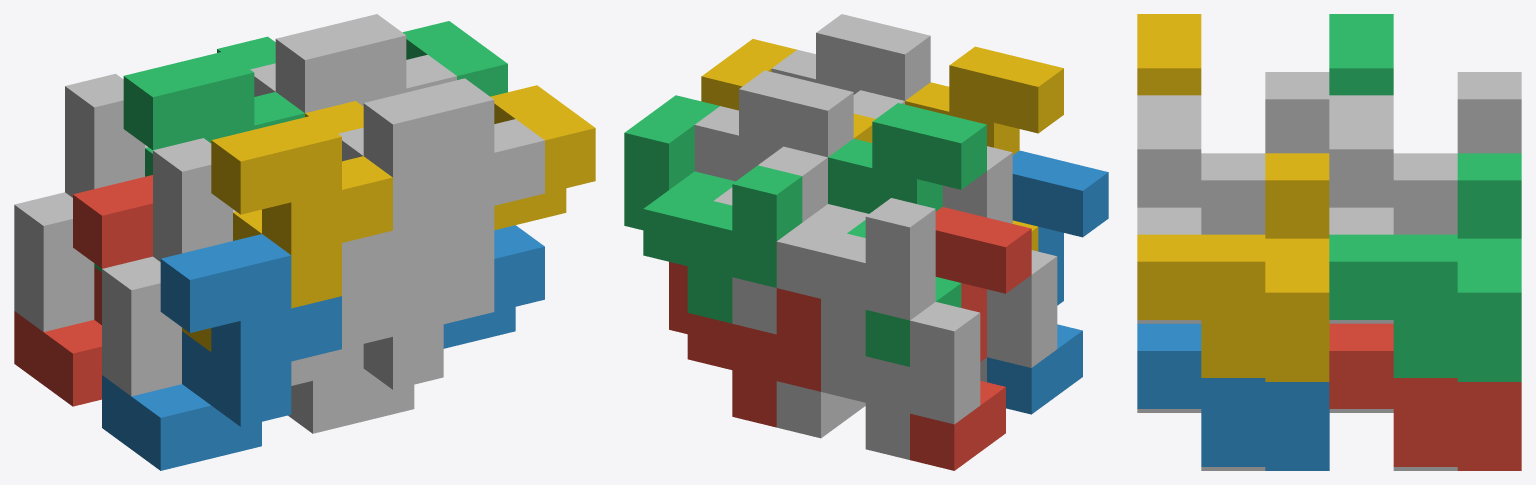
Rendered from tiling.obj.
3 views of the same model, side by side, from view 1: azimuth 30°, elevation 25°; view 2: azimuth 150°, elevation 25°; view 3: azimuth 270°, elevation 25° (orthographic). The views are drawn at different scales.
Visible parts, largest first — view 1: copy_1_domain_2, copy_1_domain_4, copy_1_domain_6, copy_1_domain_8, copy_2_domain_2, copy_1_domain_1, copy_1_domain_3, copy_1_domain_7, copy_2_domain_4, copy_2_domain_1, copy_2_domain_8, copy_2_domain_3 (+2 smaller); view 2: copy_2_domain_7, copy_2_domain_3, copy_1_domain_3, copy_2_domain_1, copy_1_domain_7, copy_1_domain_1, copy_1_domain_2, copy_2_domain_5, copy_1_domain_4, copy_1_domain_8, copy_2_domain_2, copy_2_domain_4 (+2 smaller); view 3: copy_2_domain_7, copy_2_domain_8, copy_2_domain_5, copy_2_domain_6, copy_2_domain_3, copy_2_domain_4, copy_1_domain_7, copy_1_domain_8, copy_1_domain_3, copy_1_domain_4, copy_1_domain_5, copy_1_domain_6.
Part boxes in pixels (box(x1,y1,x2,y2)): copy_1_domain_2: box(102, 234, 341, 470); copy_1_domain_4: box(182, 115, 392, 351); copy_1_domain_6: box(288, 218, 494, 433); copy_1_domain_8: box(363, 78, 544, 270); copy_2_domain_2: box(102, 256, 392, 396); copy_1_domain_1: box(14, 175, 152, 406); copy_1_domain_3: box(94, 51, 304, 271); copy_1_domain_7: box(275, 14, 456, 112); copy_2_domain_4: box(153, 127, 443, 261); copy_2_domain_1: box(14, 192, 94, 331); copy_2_domain_8: box(305, 85, 595, 230); copy_2_domain_3: box(65, 63, 275, 197); copy_2_domain_7: box(624, 95, 802, 323); copy_2_domain_3: box(758, 146, 935, 355); copy_1_domain_3: box(828, 103, 986, 366); copy_2_domain_1: box(821, 302, 980, 459); copy_1_domain_7: box(694, 70, 853, 334); copy_1_domain_1: box(910, 207, 1031, 470); copy_1_domain_2: box(987, 150, 1108, 414); copy_2_domain_5: box(669, 262, 820, 427); copy_1_domain_4: box(905, 46, 1063, 251); copy_1_domain_8: box(771, 14, 930, 100); copy_2_domain_2: box(980, 250, 1057, 382); copy_2_domain_4: box(853, 90, 1012, 223); copy_2_domain_7: box(1329, 153, 1521, 381); copy_2_domain_8: box(1137, 153, 1329, 381); copy_2_domain_5: box(1329, 323, 1521, 470); copy_2_domain_6: box(1137, 323, 1329, 470); copy_2_domain_3: box(1393, 72, 1521, 234); copy_2_domain_4: box(1201, 72, 1329, 234); copy_1_domain_7: box(1329, 95, 1393, 323); copy_1_domain_8: box(1137, 95, 1201, 323); copy_1_domain_3: box(1329, 14, 1393, 95); copy_1_domain_4: box(1137, 14, 1201, 95); copy_1_domain_5: box(1329, 409, 1457, 470); copy_1_domain_6: box(1137, 409, 1265, 470).
Size of the model in its own units: 8 by 6 by 6.
